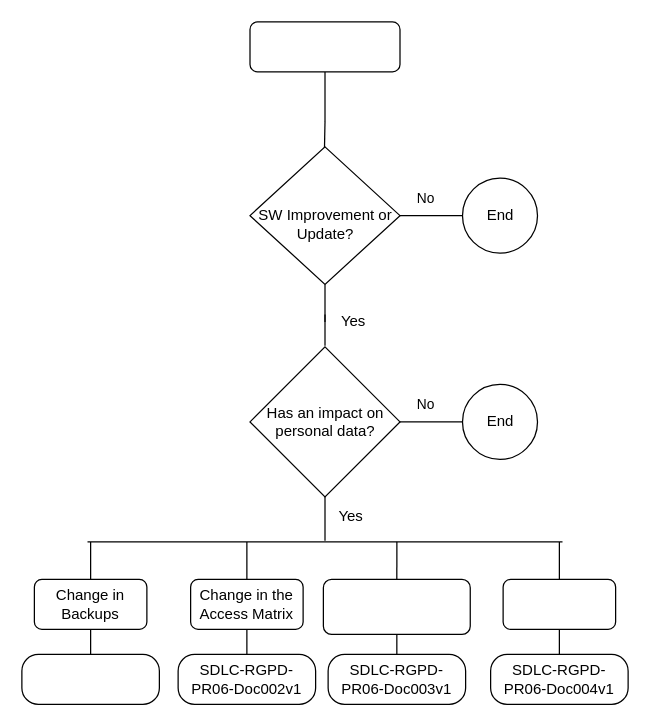
The diagram is 650 pixels wide and 726 high, and some of its shapes have lost their labels. The shapes that lost their labels are listed below. From the top down, each one's centre as x and y in pixels, then its label:
At [324,46]: "Maintenance".
At [396,606]: "Changes to data subjects' rights".
At [559,603]: "Other PII changes".
At [90,678]: "SDLC-RGPD-PR06-Doc001v1".
